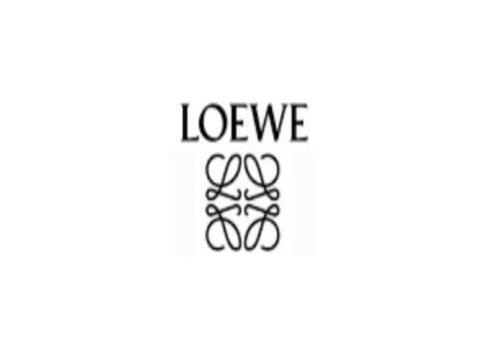LOEWE: (168, 77, 347, 268)
